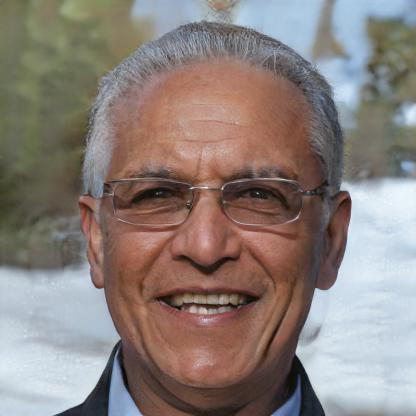glasses: (98, 172, 316, 234)
